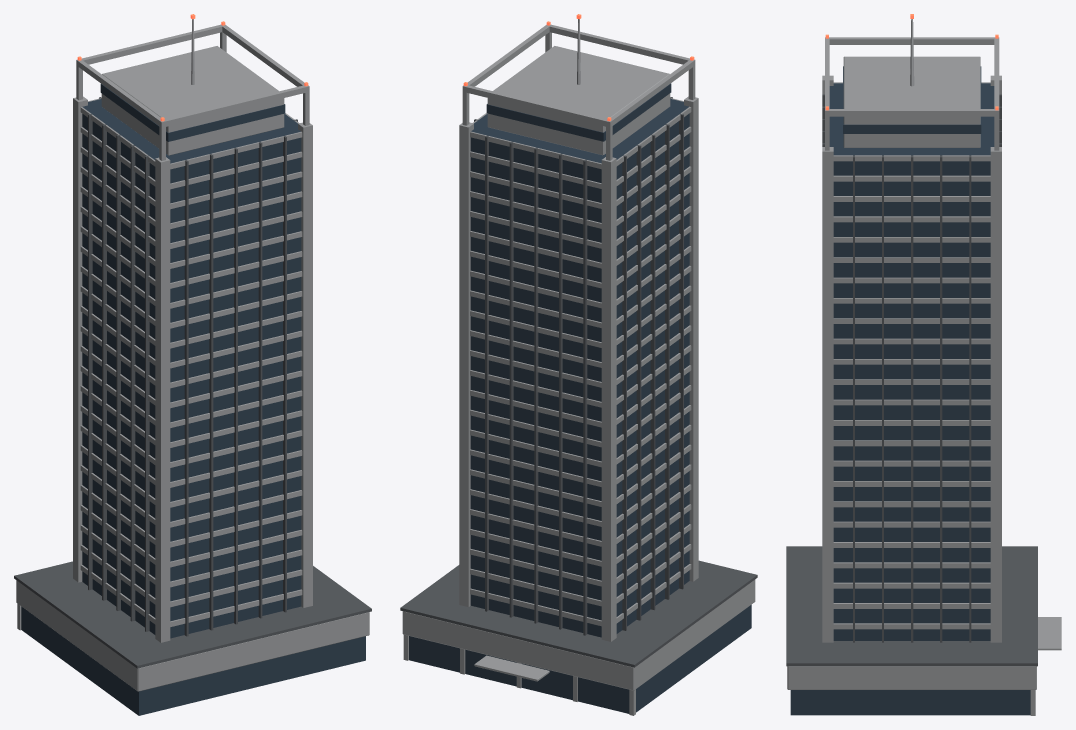
Rendered from building_tower.glb.
The picture shows the model from 3 angles, left to right: view 1: azimuth 30°, elevation 25°; view 2: azimuth 150°, elevation 25°; view 3: azimuth 270°, elevation 25°; orthographic projection. The views are drawn at different scales.
Parts seen in each view (by area): view 1: building_tower; view 2: building_tower; view 3: building_tower.
Boxes of the visible parts, left/top/right/bottom form: building_tower: left=14, top=14, right=371, bottom=715; building_tower: left=400, top=14, right=757, bottom=715; building_tower: left=786, top=14, right=1061, bottom=715.
Bounding box in the file's own units: 44.4 × 114 × 44.2.
